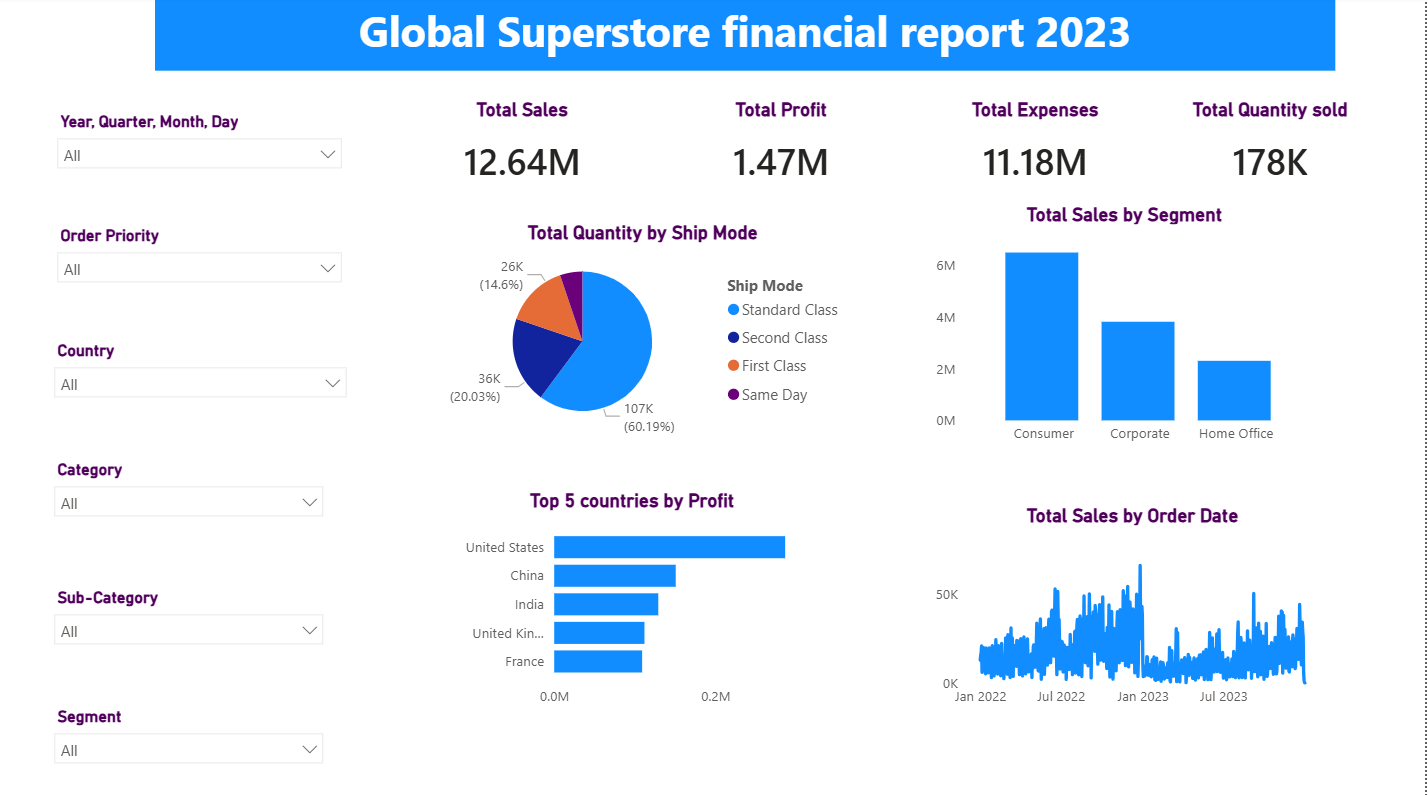

Layout of this report page (visuals, bound fields, positions):
{"tool":"powerbi","page":{"name":"Page 1","canvas":[1280,720],"ordinal":0},"visuals":[{"type":"textbox","box":[143,0,1057.3,66.1],"z":0},{"type":"cardVisual","title":"Total Sales","fields":{"Data":["Sum(Orders (2).Sales)"]},"box":[373.5,90.5,197.4,90.5],"z":1000},{"type":"columnChart","title":"Total Sales by Segment","fields":{"Y":["Sum(Orders (2).Sales)"],"Category":["Orders (2).Segment"]},"box":[837.4,184.8,348.2,224.7],"z":2000},{"type":"pieChart","title":"Total Quantity by Ship Mode","fields":{"Y":["Sum(Orders (2).Quantity)"],"Category":["Orders (2).Ship Mode"]},"box":[391,200.4,377.4,196.5],"z":3000},{"type":"clusteredBarChart","title":"Top 5 countries by Profit","fields":{"Category":["Orders (2).Country"],"Y":["Sum(Orders (2).Profit)"]},"box":[404.6,440.6,331.7,204.3],"z":4000},{"type":"lineChart","title":"Total Sales by Order Date","fields":{"Y":["Sum(Orders (2).Sales)"],"Category":["Orders (2).Order Date.Variation.Date Hierarchy.Year","Orders (2).Order Date.Variation.Date Hierarchy.Quarter","Orders (2).Order Date.Variation.Date Hierarchy.Month","Orders (2).Order Date.Variation.Date Hierarchy.Day"]},"box":[837.4,454.2,362.8,190.6],"z":5000},{"type":"cardVisual","title":"Total Profit","fields":{"Data":["Sum(Orders (2).Profit)"]},"box":[605,90.5,197.4,90.5],"z":6000},{"type":"cardVisual","title":"Total Expenses","fields":{"Data":["Sum(Orders (2).Expenses)"]},"box":[832.6,90.5,197.4,90.5],"z":7000},{"type":"cardVisual","title":"Total Quantity sold","fields":{"Data":["Sum(Orders (2).Quantity)"]},"box":[1043.6,90.5,197.4,90.5],"z":8000},{"type":"slicer","fields":{"Values":["Orders (2).Order Date.Variation.Date Hierarchy.Year","Orders (2).Order Date.Variation.Date Hierarchy.Quarter","Orders (2).Order Date.Variation.Date Hierarchy.Month","Orders (2).Order Date.Variation.Date Hierarchy.Day"]},"box":[45.7,98.2,275.3,102.1],"z":9000},{"type":"slicer","fields":{"Values":["Orders (2).Order Priority"]},"box":[45.7,200.4,275.3,75.9],"z":10000},{"type":"slicer","fields":{"Values":["Orders (2).Country"]},"box":[42.8,303.5,282.1,56.4],"z":11000},{"type":"slicer","fields":{"Values":["Orders (2).Sub-Category"]},"box":[43,524.8,261.5,69],"z":12000},{"type":"slicer","fields":{"Values":["Orders (2).Category"]},"box":[43,410.1,261.5,60.9],"z":13000},{"type":"slicer","fields":{"Values":["Orders (2).Segment"]},"box":[43,631.3,261.5,60.9],"z":13001}]}

Visuals, with their boxes in screenshot pixels (x1, y1, x2, y2), scaled from the page's 1280x720 canvas onto the 1428x795 screenshot:
textbox: l=160, t=0, r=1339, b=73
"Total Sales" cardVisual: l=417, t=100, r=637, b=200
"Total Sales by Segment" columnChart: l=934, t=204, r=1323, b=452
"Total Quantity by Ship Mode" pieChart: l=436, t=221, r=857, b=438
"Top 5 countries by Profit" clusteredBarChart: l=451, t=486, r=821, b=712
"Total Sales by Order Date" lineChart: l=934, t=502, r=1339, b=712
"Total Profit" cardVisual: l=675, t=100, r=895, b=200
"Total Expenses" cardVisual: l=929, t=100, r=1149, b=200
"Total Quantity sold" cardVisual: l=1164, t=100, r=1384, b=200
slicer - Orders (2).Order Date.Variation.Date Hierarchy.Year x Orders (2).Order Date.Variation.Date Hierarchy.Quarter: l=51, t=108, r=358, b=221
slicer - Orders (2).Order Priority: l=51, t=221, r=358, b=305
slicer - Orders (2).Country: l=48, t=335, r=362, b=397
slicer - Orders (2).Sub-Category: l=48, t=579, r=340, b=656
slicer - Orders (2).Category: l=48, t=453, r=340, b=520
slicer - Orders (2).Segment: l=48, t=697, r=340, b=764
